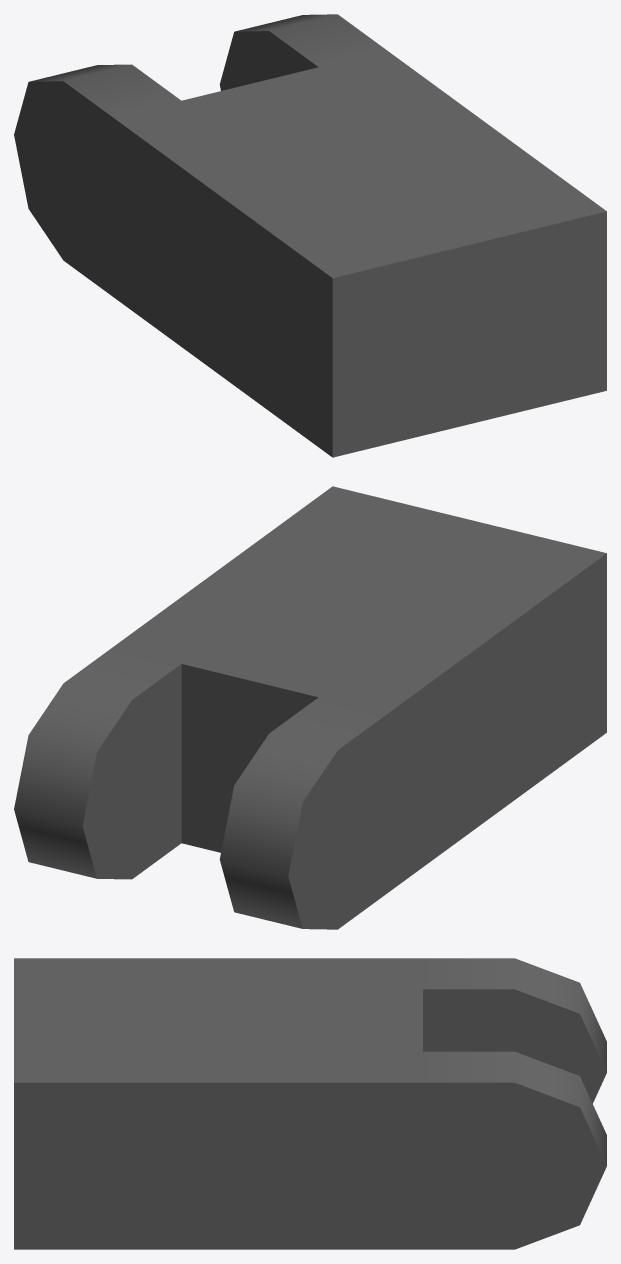
File: Tantares_Antenna_1_Base.obj
3 renders of one model, top to bottom at view 1: azimuth 30°, elevation 25°; view 2: azimuth 150°, elevation 25°; view 3: azimuth 270°, elevation 25°, orthographic. The views are drawn at different scales.
Visible parts, largest first — view 1: Tantares_Antenna_1_Base; view 2: Tantares_Antenna_1_Base; view 3: Tantares_Antenna_1_Base.
Part boxes in pixels (x1,y1,x2,y2): Tantares_Antenna_1_Base: (14,14,606,457); Tantares_Antenna_1_Base: (14,486,606,929); Tantares_Antenna_1_Base: (14,958,606,1249).
Size of the model in its own units: 0.05 by 0.0312 by 0.1006.
